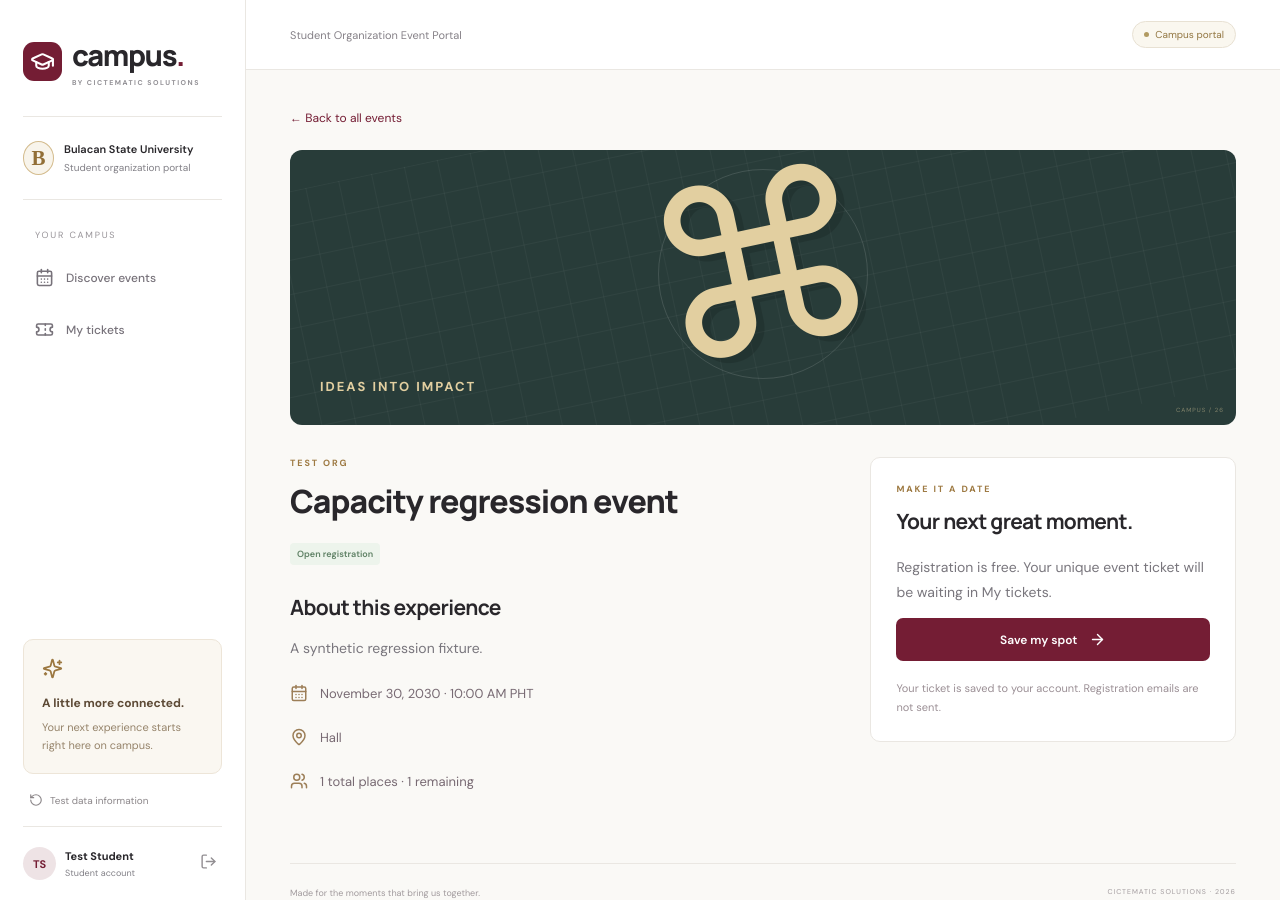
shared availability refresh › reconciles the full event after a rejected registration while retaining its error
What coordinates should you click on to do the following:
click the button "Save my spot"
I would click on:
 (1053, 640)
Its box is [896,618,1210,661].
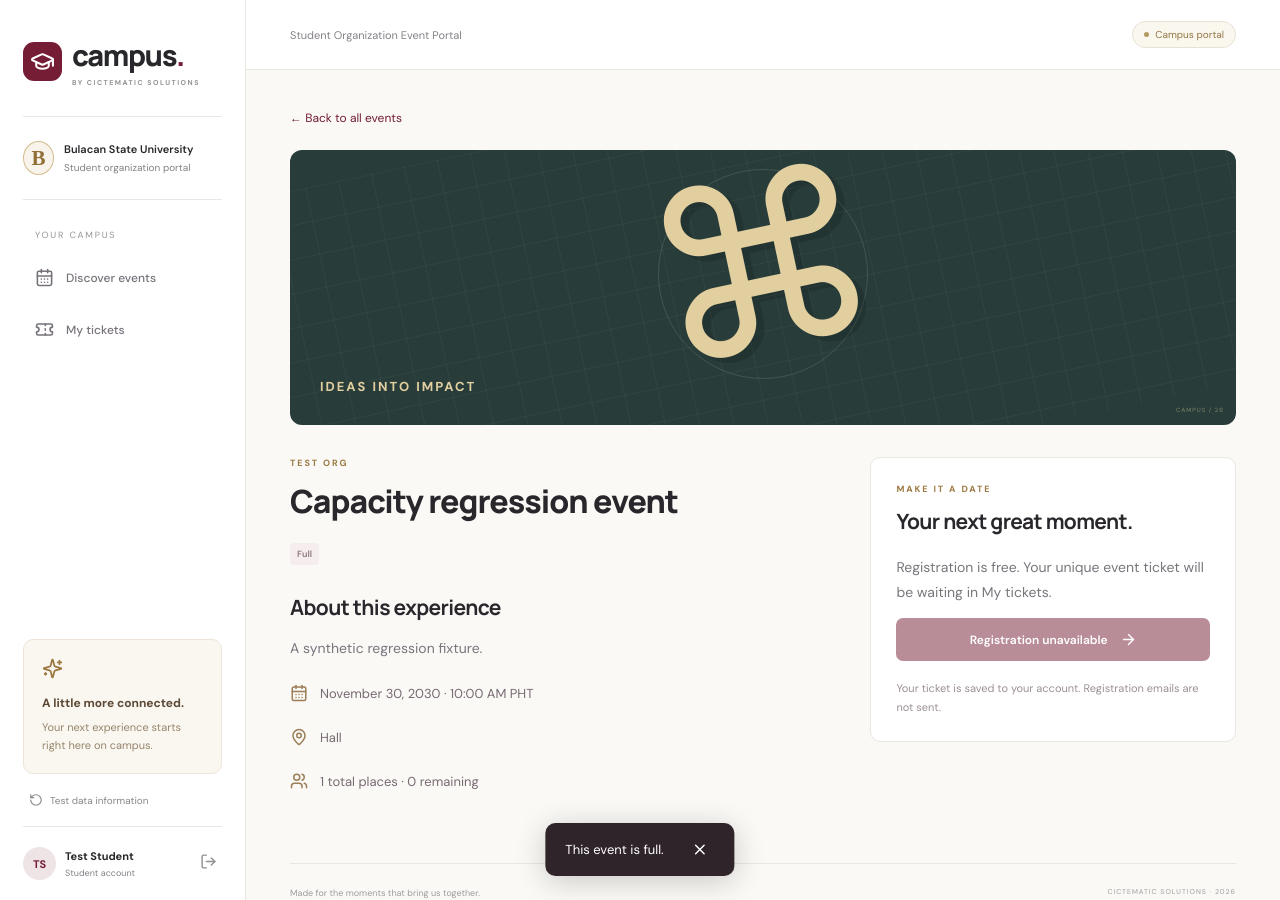
Expected: the message reads "This event is full.", [565,841,664,858]
Expected: the button "Registration unavailable" is disabled, [896,618,1210,661]
Expected: the text "Full" is shown, [290,543,319,565]
